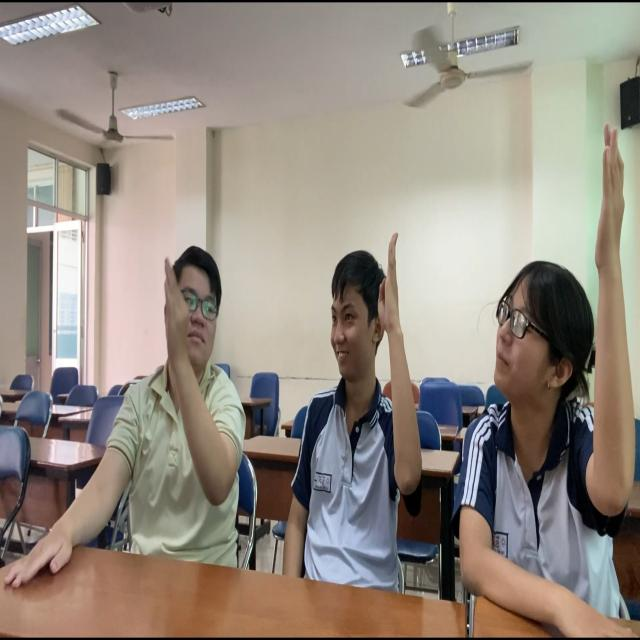raise_hand: (440, 104, 640, 640), (94, 215, 248, 572), (277, 226, 418, 587)
